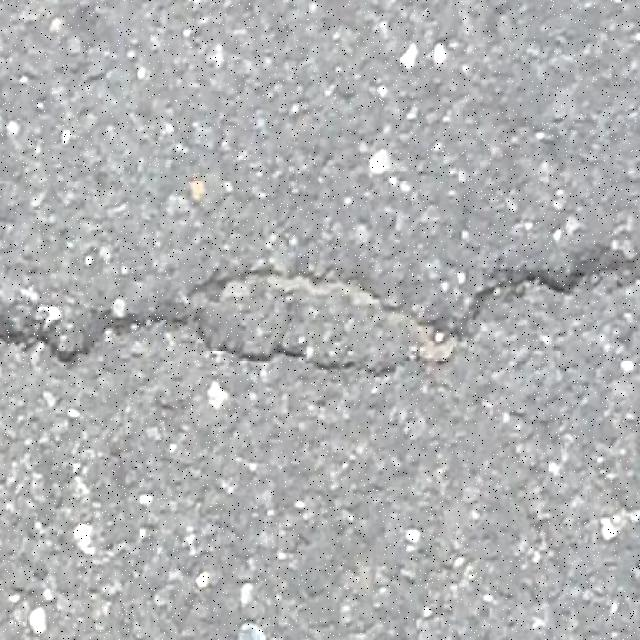Crack: (170, 268, 461, 376), (0, 316, 165, 362), (478, 255, 640, 296)
